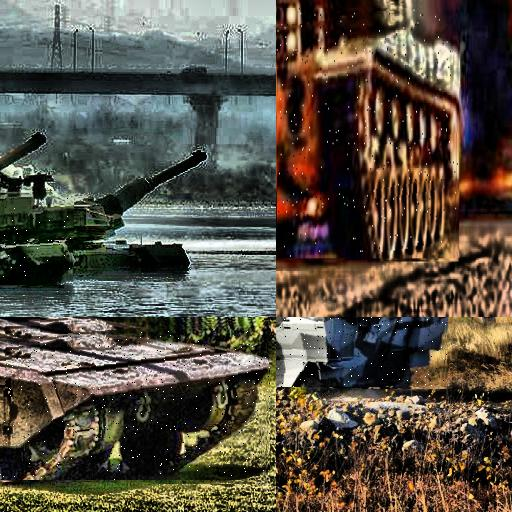tanks: (277, 9, 458, 258), (1, 329, 270, 481), (277, 318, 447, 388), (1, 244, 72, 286)
